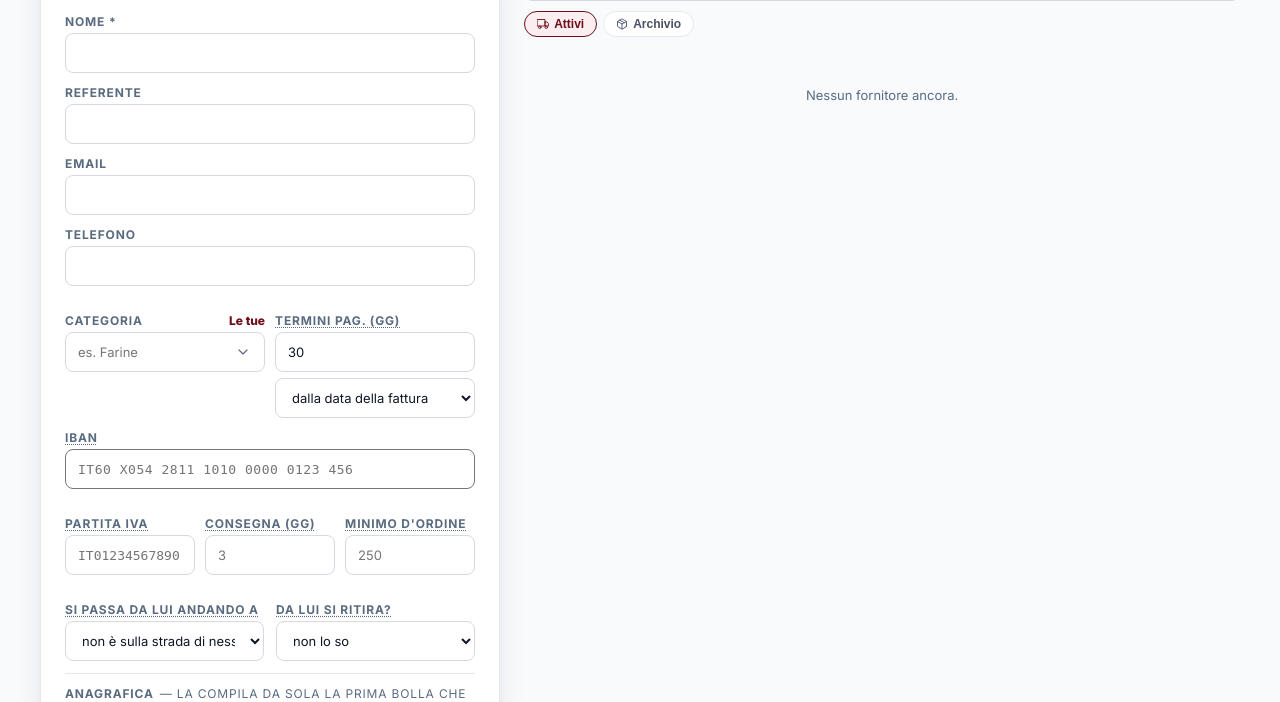
Test: il campo Categoria è un elenco, non una casella libera › una categoria che non è in elenco non passa in silenzio
(page scrolled)
Type "Latticni" into the dropdown named "Categoria" at x=165, y=352, box [65,332,265,372]
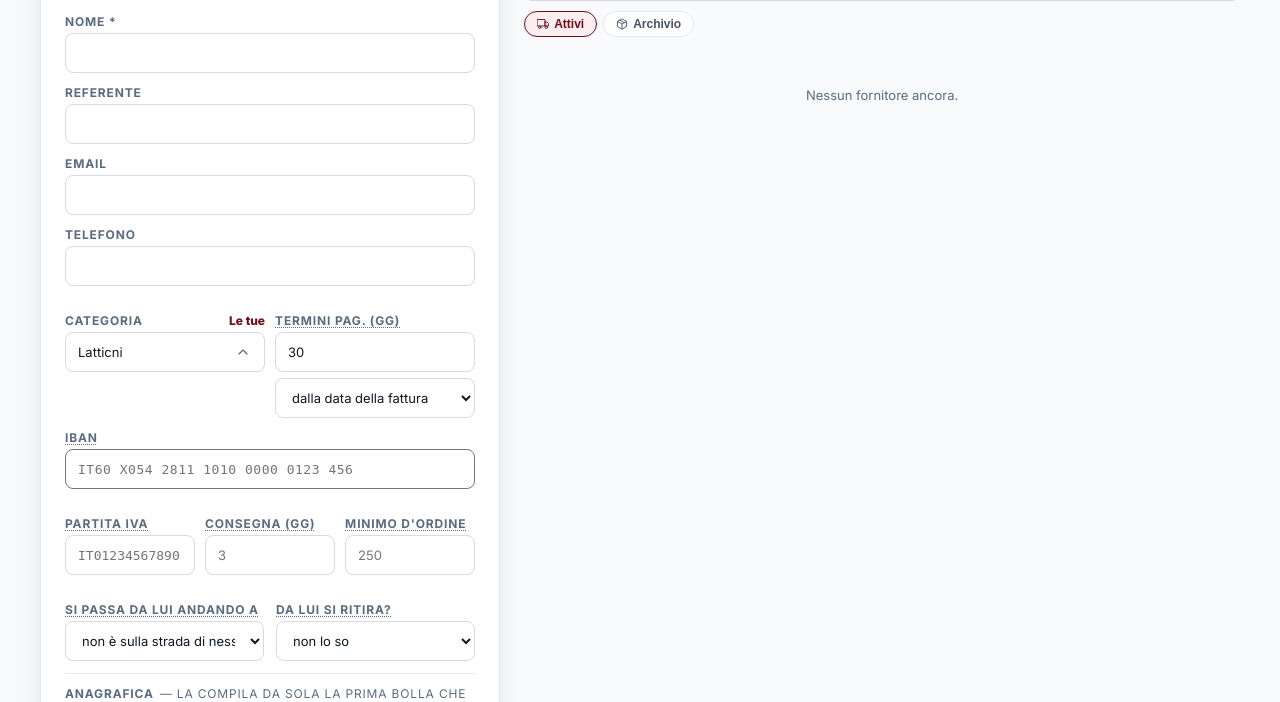
Press Escape in the dropdown named "Categoria", box [65,332,265,372]
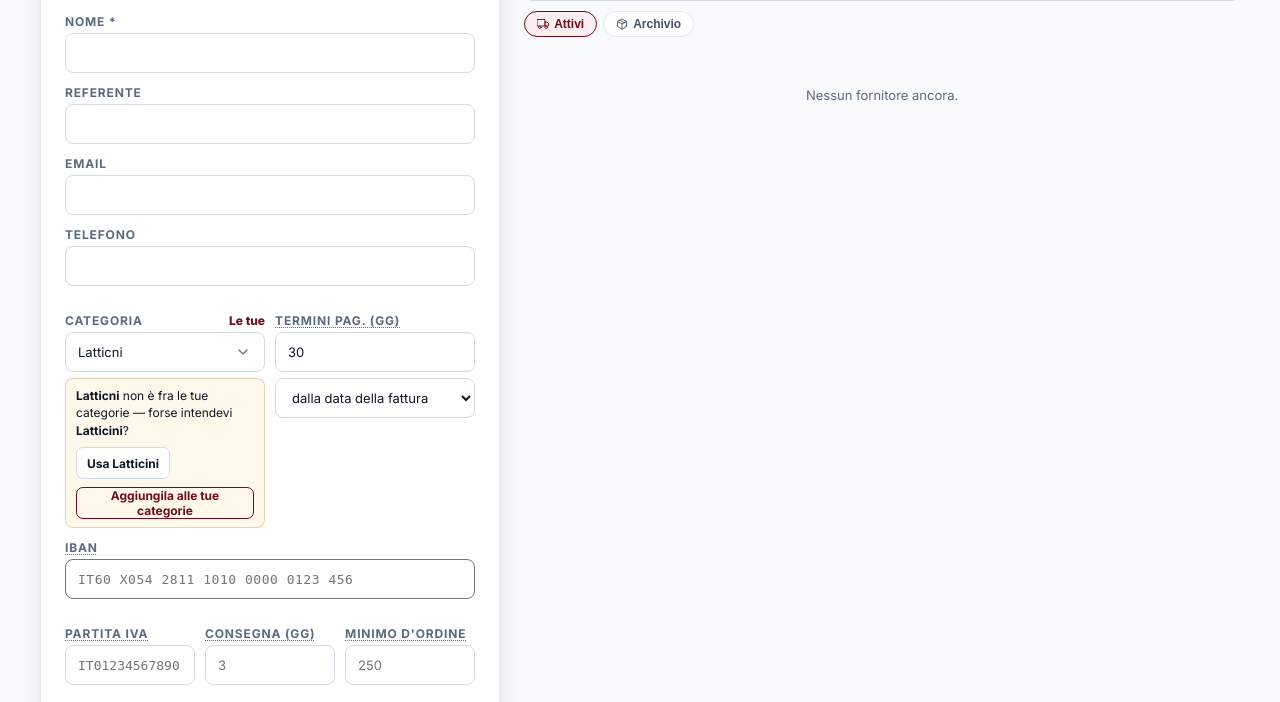
Result: the text "non è fra le tue categorie" is shown at [76,387,254,439]
